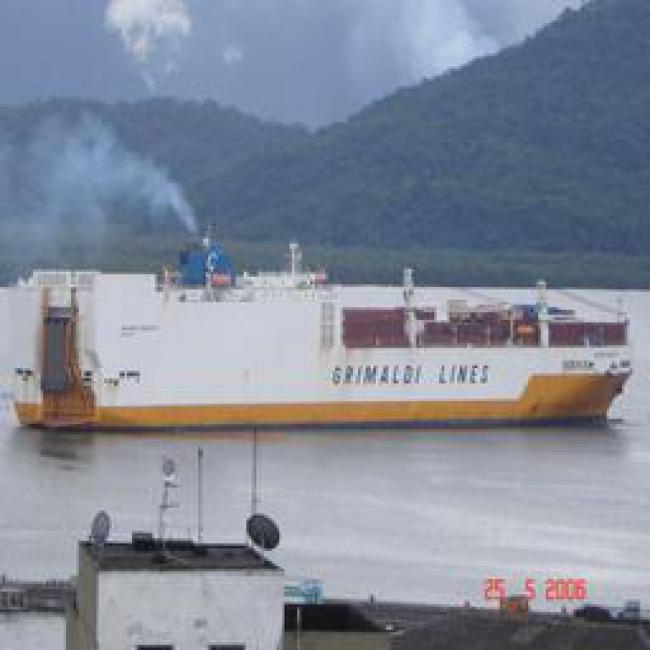Ship: (23, 239, 636, 439)
